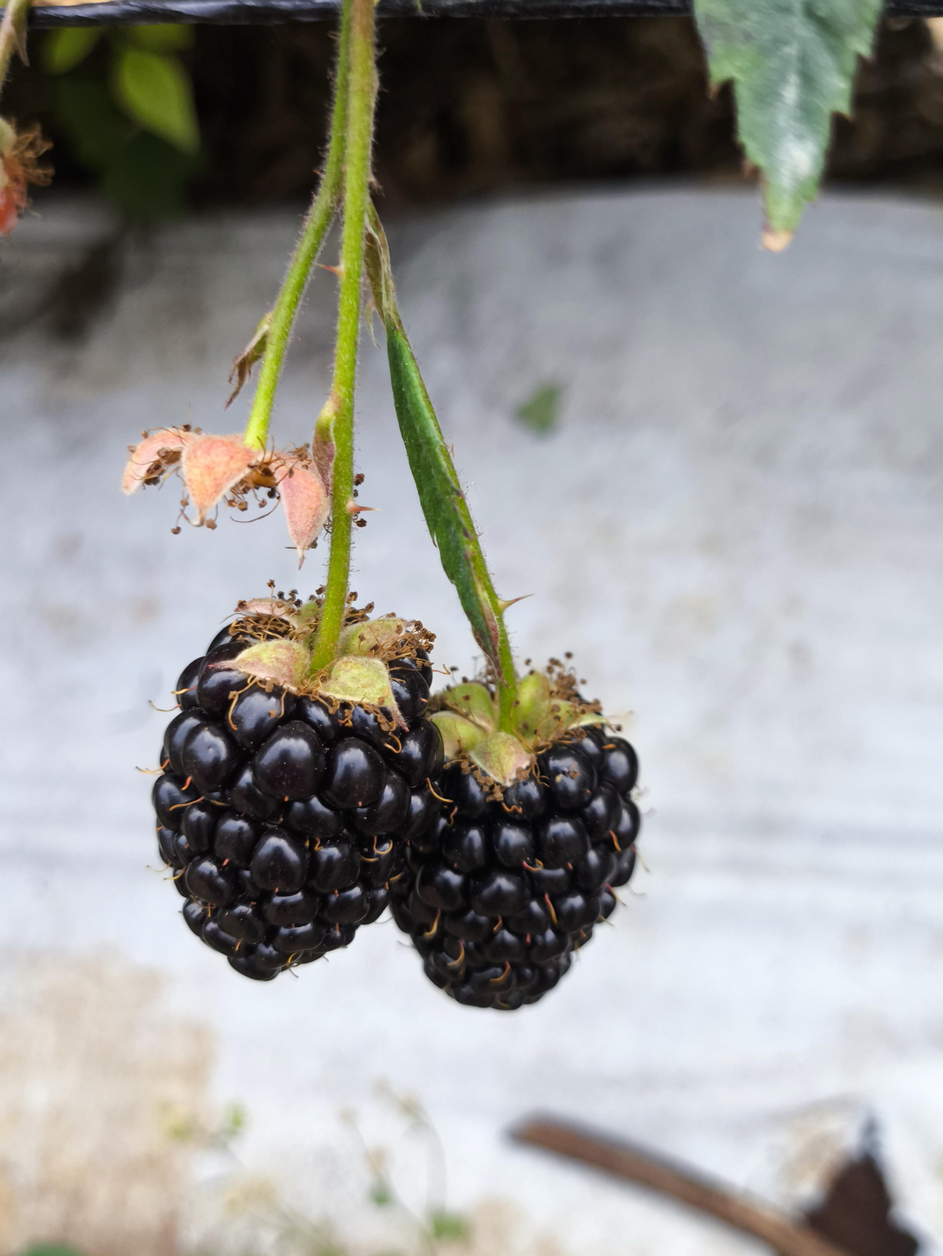maduro: (156, 614, 433, 978), (378, 682, 637, 1010)
